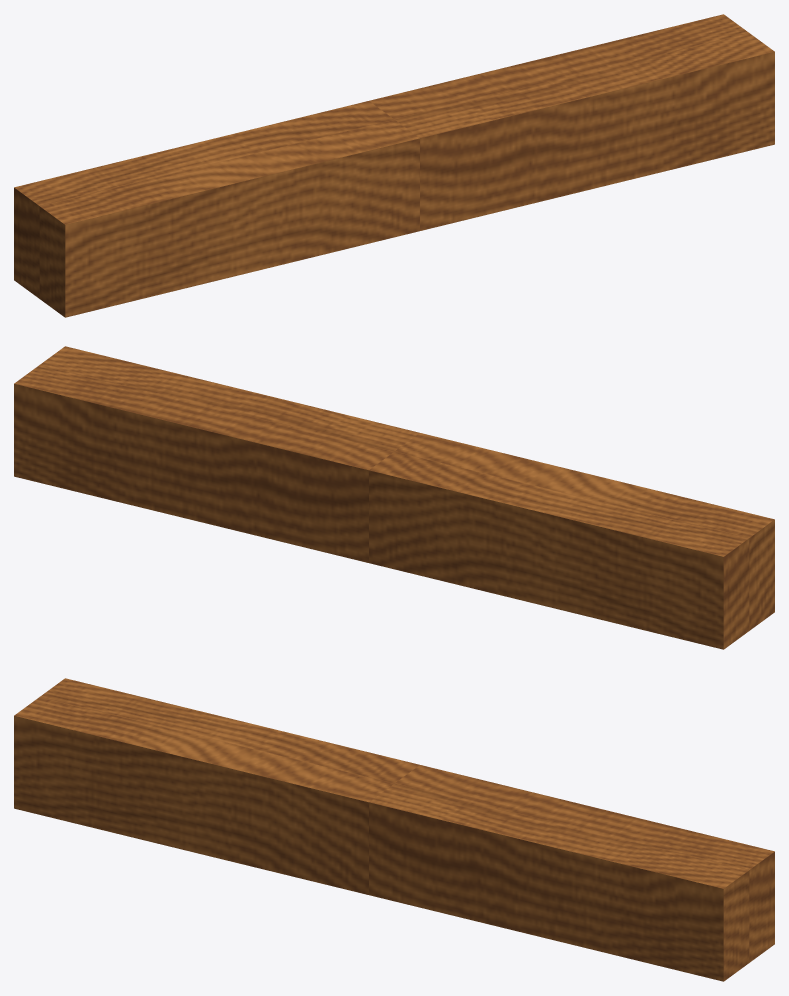
File: roof_barge_timber.glb
3 renders of one model, top to bottom at view 1: azimuth 30°, elevation 25°; view 2: azimuth 150°, elevation 25°; view 3: azimuth 330°, elevation 25°, orthographic.
Visible parts, largest first — view 1: town_roof_barge_timber; view 2: town_roof_barge_timber; view 3: town_roof_barge_timber.
Boxes of the visible parts, x1,y1,x2,y2 form: town_roof_barge_timber: [14, 14, 774, 317]; town_roof_barge_timber: [14, 346, 774, 649]; town_roof_barge_timber: [14, 678, 774, 981].
Size of the model in its own units: 1 by 0.125 by 0.125.
Materials: 1 (1 with a texture image).
